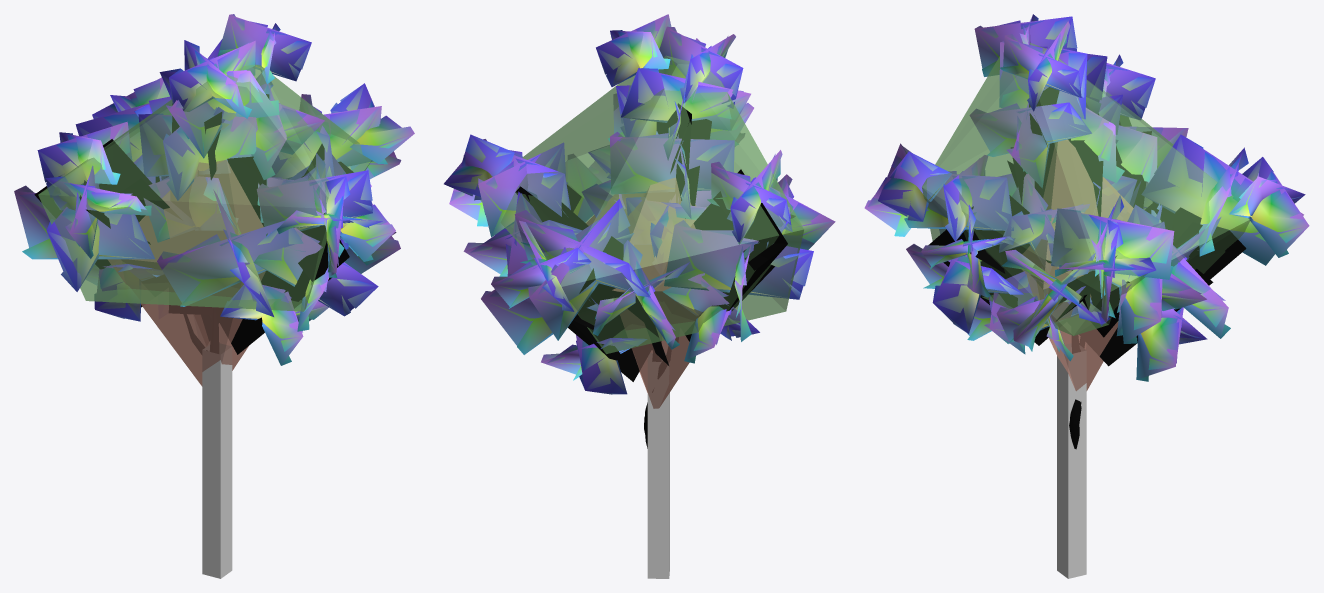
File: cork_oak_filler_center.dae
The picture shows the model from 3 angles, left to right: view 1: azimuth 30°, elevation 25°; view 2: azimuth 150°, elevation 25°; view 3: azimuth 270°, elevation 25°; orthographic projection. The views are drawn at different scales.
Visible parts, largest first — view 1: Colmesh-1, cork_oak_filler_center_a1200, cork_oak_filler_center_a1000; view 2: Colmesh-1, cork_oak_filler_center_a1000, cork_oak_filler_center_a1200; view 3: Colmesh-1, cork_oak_filler_center_a1200, cork_oak_filler_center_a1000.
Boxes of the visible parts, bbox=[...] form: Colmesh-1: bbox=[38, 64, 371, 578]; cork_oak_filler_center_a1200: bbox=[15, 14, 414, 365]; cork_oak_filler_center_a1000: bbox=[14, 15, 413, 365]; Colmesh-1: bbox=[480, 55, 804, 578]; cork_oak_filler_center_a1000: bbox=[444, 14, 834, 434]; cork_oak_filler_center_a1200: bbox=[444, 14, 835, 448]; Colmesh-1: bbox=[922, 42, 1249, 578]; cork_oak_filler_center_a1200: bbox=[865, 14, 1309, 449]; cork_oak_filler_center_a1000: bbox=[864, 15, 1308, 444].
Size of the model in its own units: 9.7 by 10.25 by 14.14.
